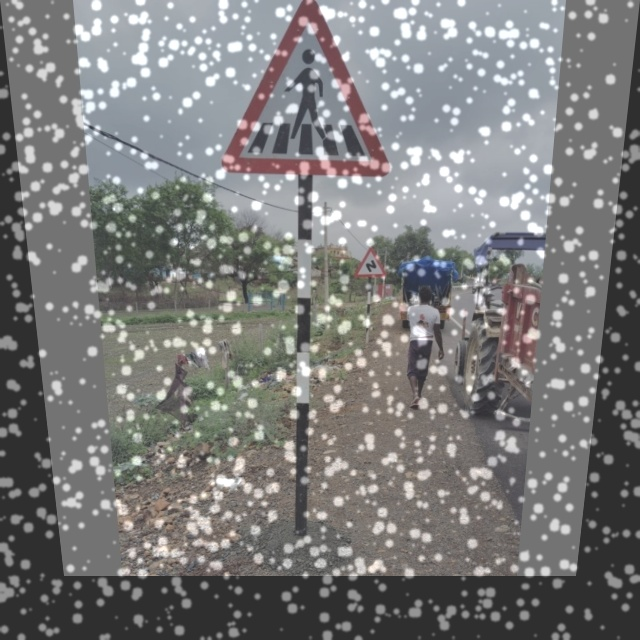Pedestrian_Crossing: (216, 4, 393, 174)
